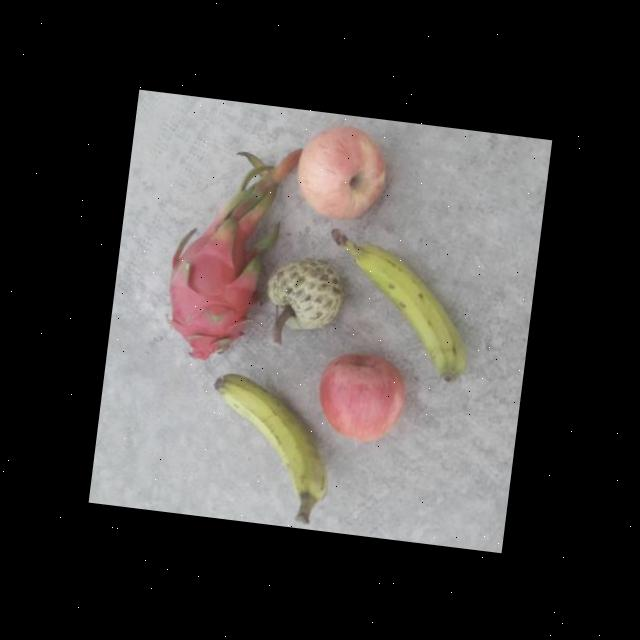Sakya fruit: (260, 252, 350, 336)
apple: (291, 119, 397, 226), (311, 344, 413, 447)
banana: (307, 219, 483, 390), (197, 368, 353, 530)
pitaya: (159, 214, 277, 365)
